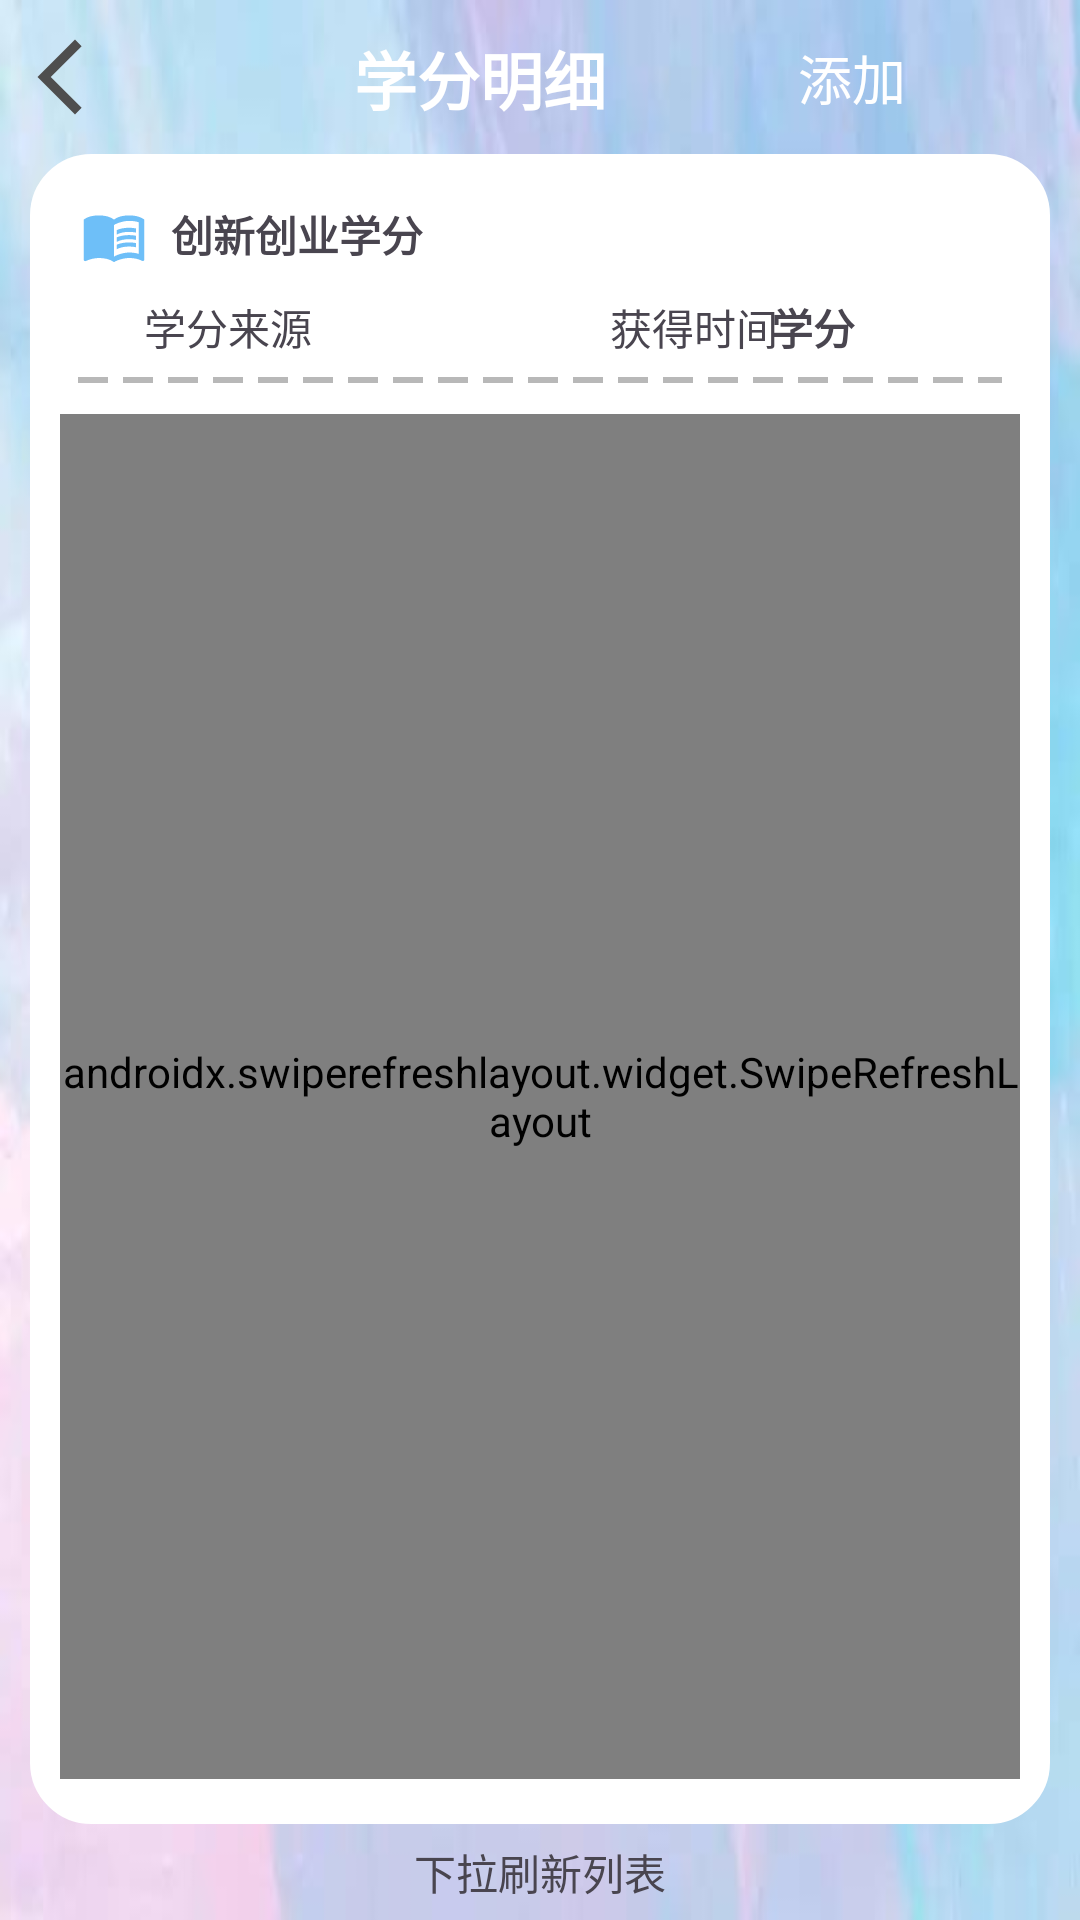

Icons on this 1080px×1920px Android screen, each with the point to tap as [x,y]:
back darker: [60,77]
